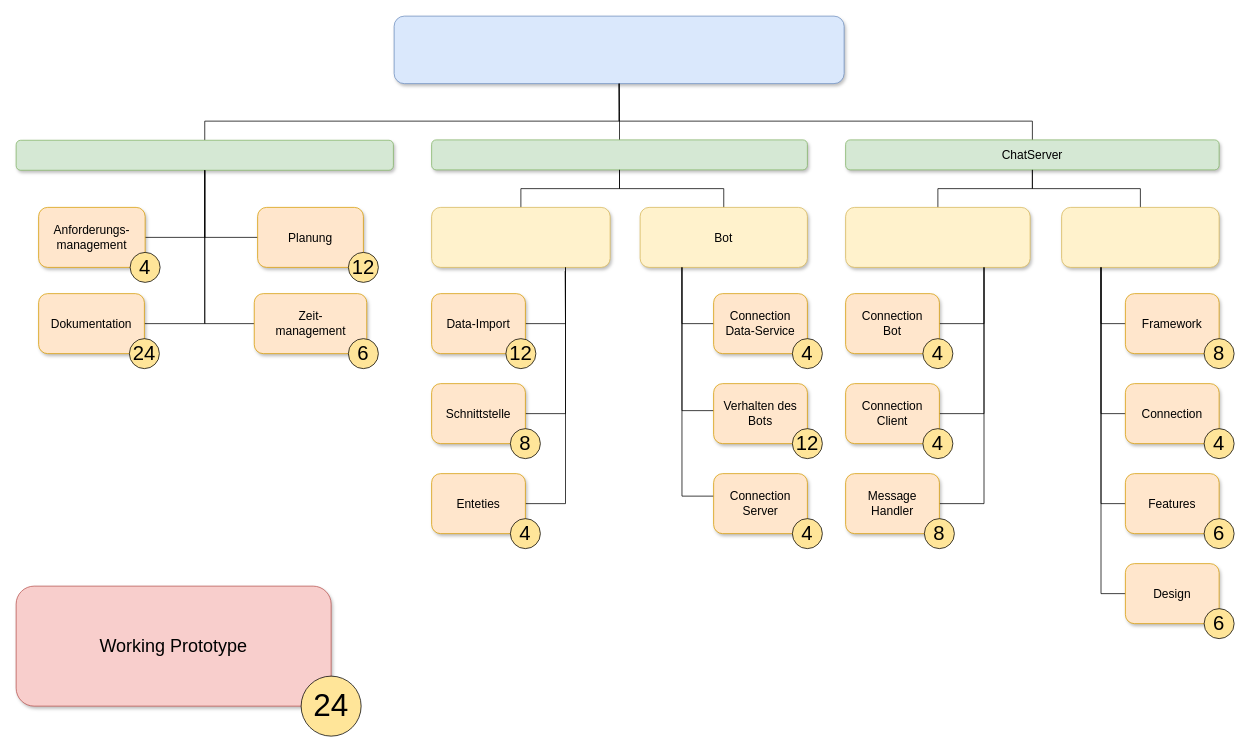
Image size: 1247x749. Some labels were removed from this diagram. The shapes that lost their labels are listed below. From the top down, each one's centre as x and y in pixels, then its label:
At point 619,50: "QwickPOT PSP".
At point 205,156: "Projektmanagement".
At point 620,155: "ChatBot".
At point 521,238: "Data-Service".
At point 938,238: "Backend".
At point 1141,238: "GUI".
